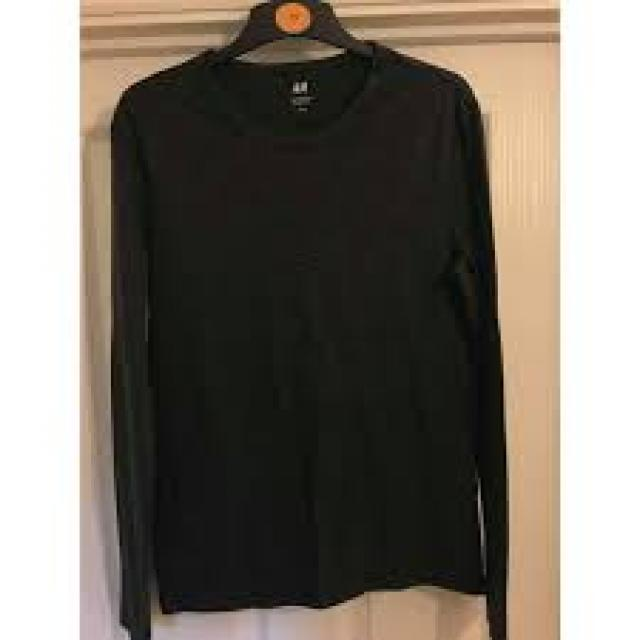plain: (109, 52, 508, 606)
